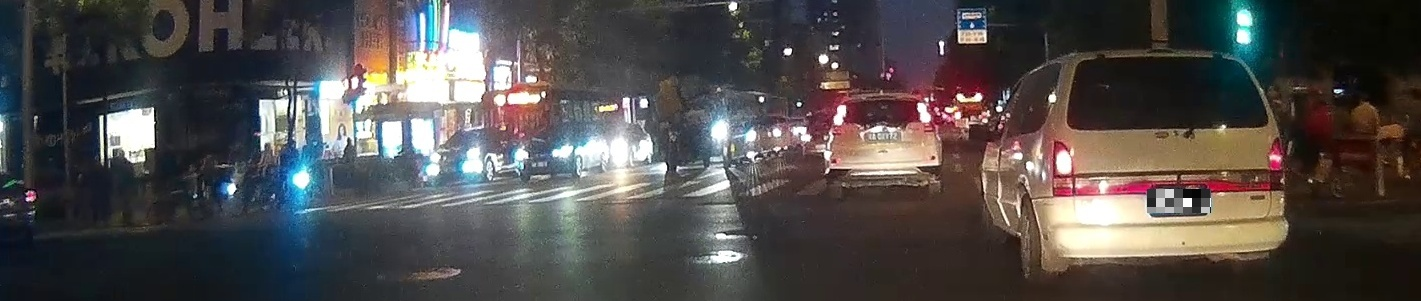L_light: (1052, 140, 1074, 176), (833, 105, 846, 126)
R_light: (1267, 137, 1283, 170), (917, 103, 931, 123)
T_light: (1145, 57, 1180, 64), (874, 101, 890, 103)
night-left: (1048, 49, 1287, 285)
night-no: (824, 93, 941, 199)
plate_1: (1147, 189, 1211, 213)
